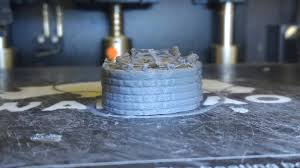fail: (100, 43, 205, 74)
